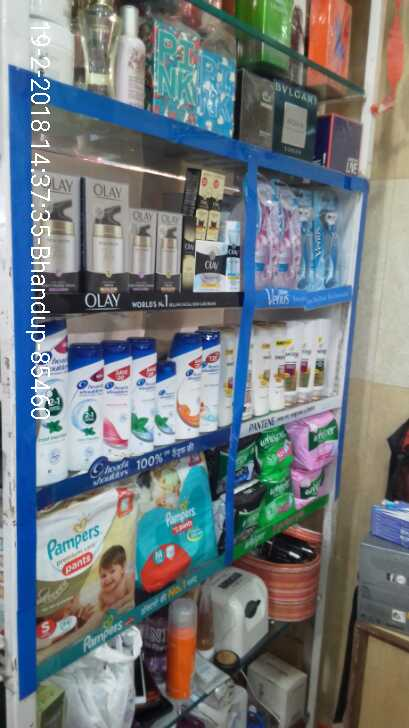venus: (317, 193, 344, 287), (255, 181, 276, 292), (276, 192, 298, 292), (298, 192, 317, 287)
